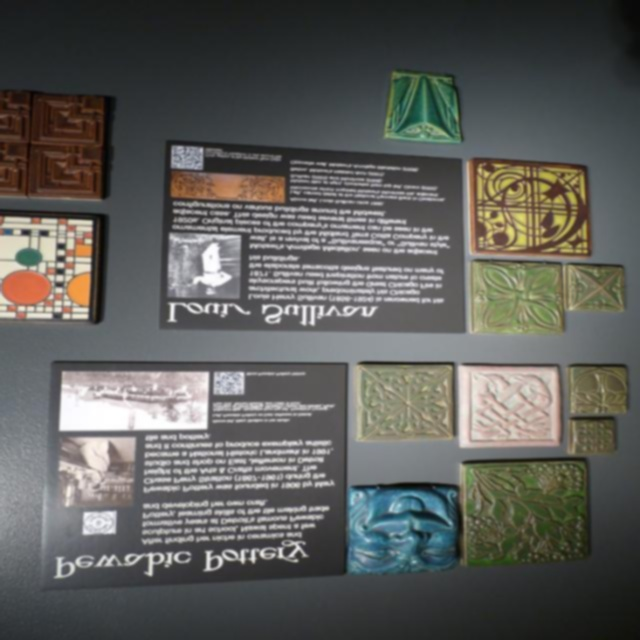qr-code: (171, 148, 202, 170), (216, 372, 244, 393)
